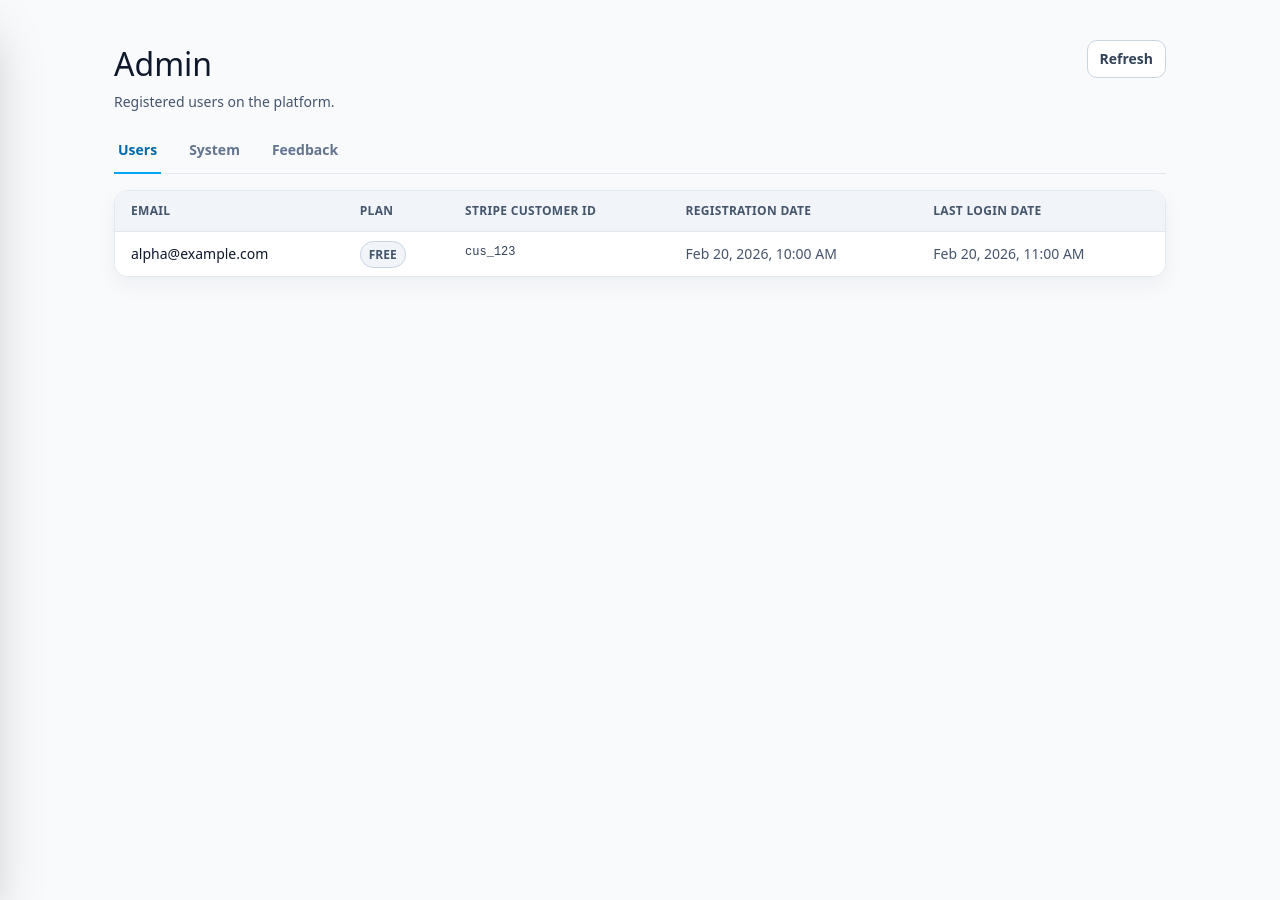
it: AdminPage drawer actions › loads and renders feedback rows when switching to feedback tab
Check: the button with aria-label "Open user details for alpha@example.com" is shown, box left=115, top=232, right=1165, bottom=276
Click the button "Feedback" at (305, 155), box left=268, top=136, right=342, bottom=174
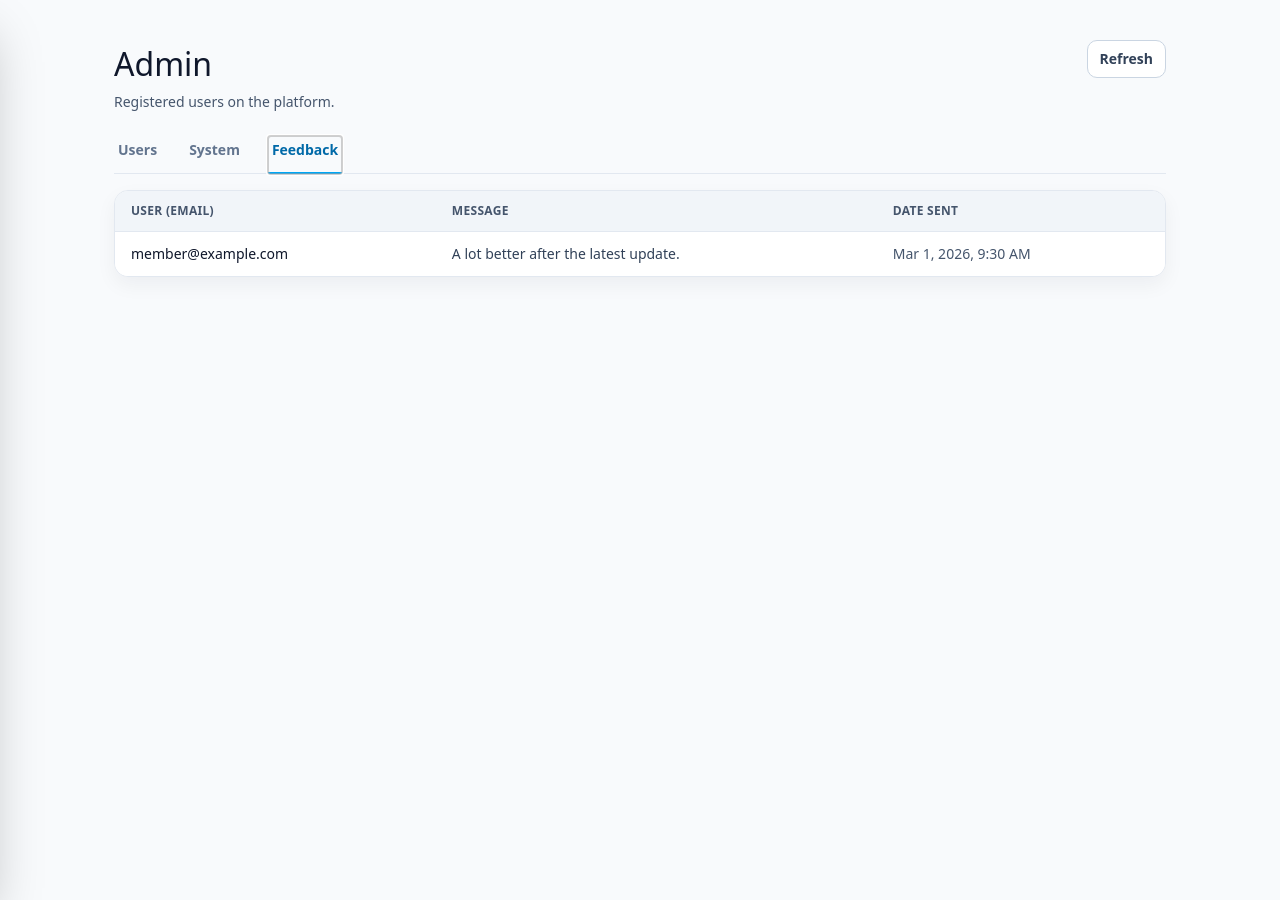
Check: the column heading "User (email)" is shown, box left=115, top=191, right=436, bottom=232
Check: the column heading "Message" is shown, box left=436, top=191, right=877, bottom=232
Check: the column heading "Date sent" is shown, box left=877, top=191, right=1165, bottom=232
